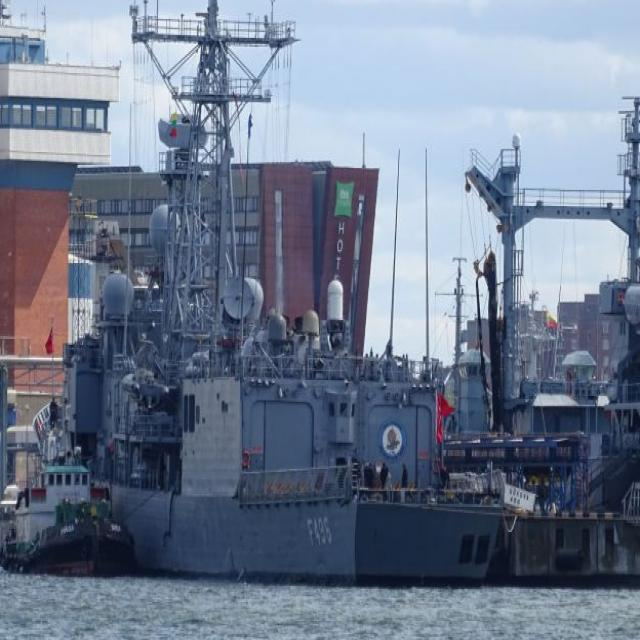Fragata: (72, 13, 512, 593)
